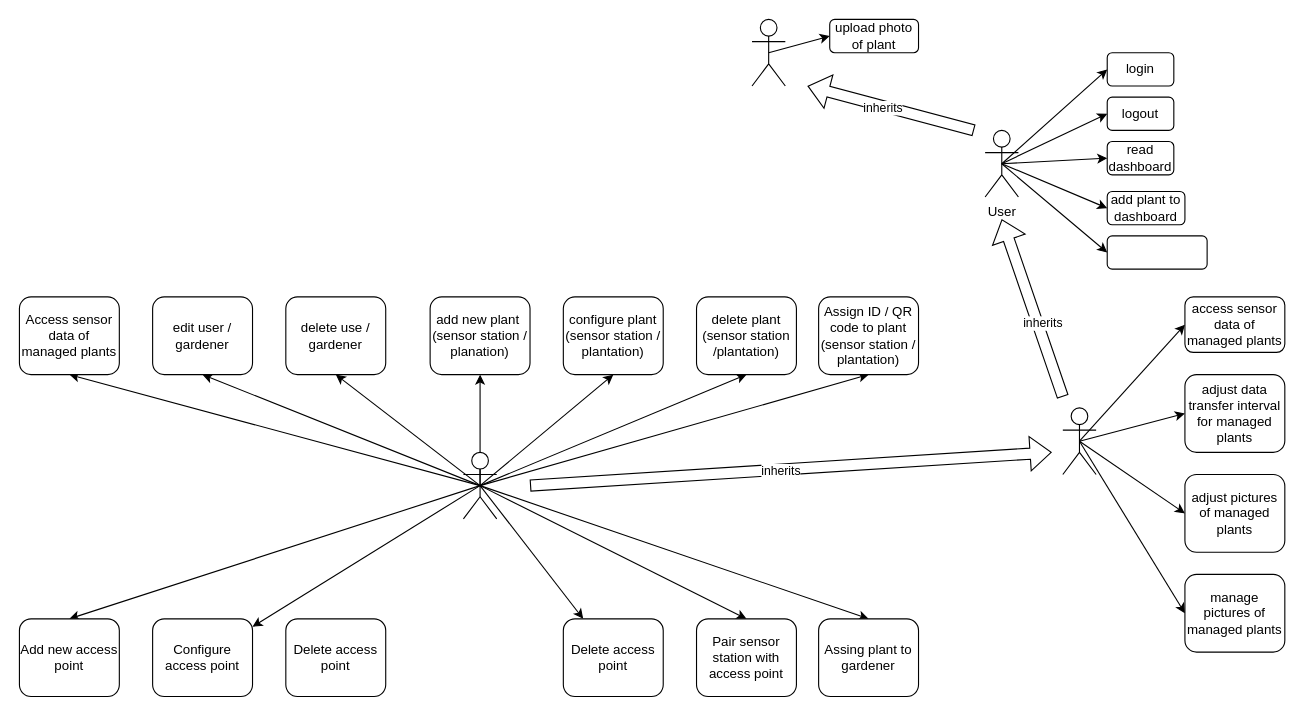
Some shapes in this 1304 by 716 pixel diagram are drawn without their labels. Here are the shapes that lost their labels. From the top down, the box of each, then its label:
(751, 18, 785, 86): Guest
(1106, 235, 1207, 269): remove plant from dashboard
(1062, 407, 1096, 475): Gardener
(462, 451, 497, 519): Admin
